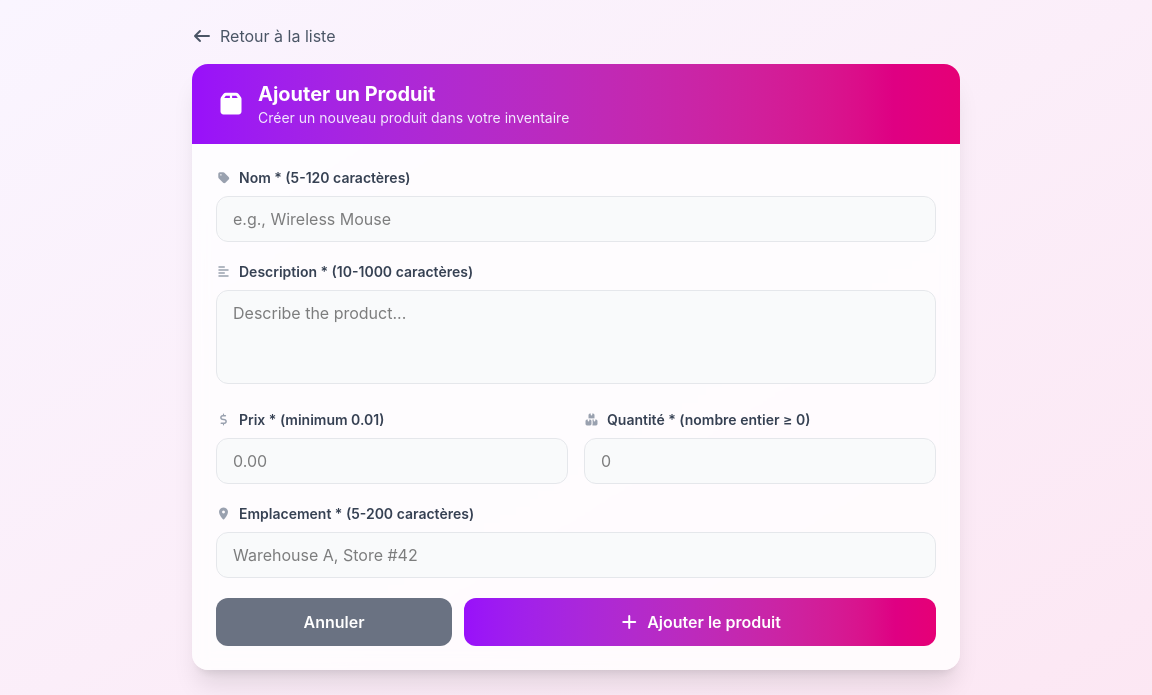
Test: AddProductForm › devrait afficher des erreurs de validation lorsque le formulaire est invalide
Click the button "Ajouter le produit".
click(700, 622)  # box [464,598,936,646]
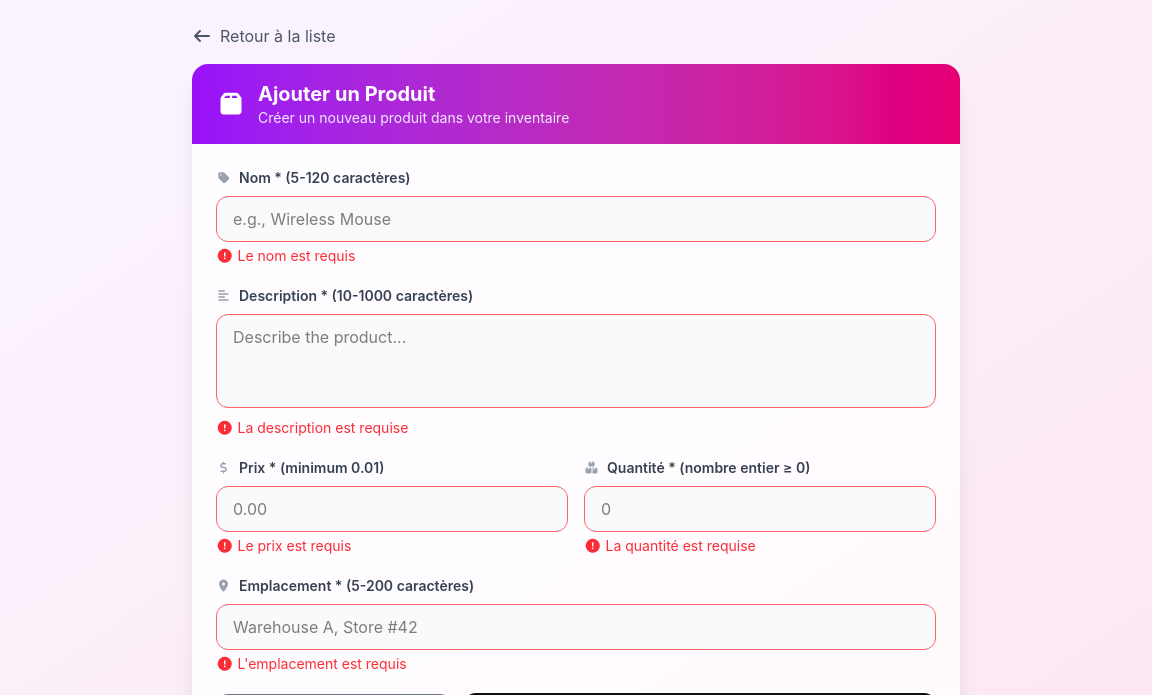
Check: the text "Le nom est requis" is shown, box [216,247,355,264]
Check: the text "La description est requise" is shown, box [216,419,408,436]
